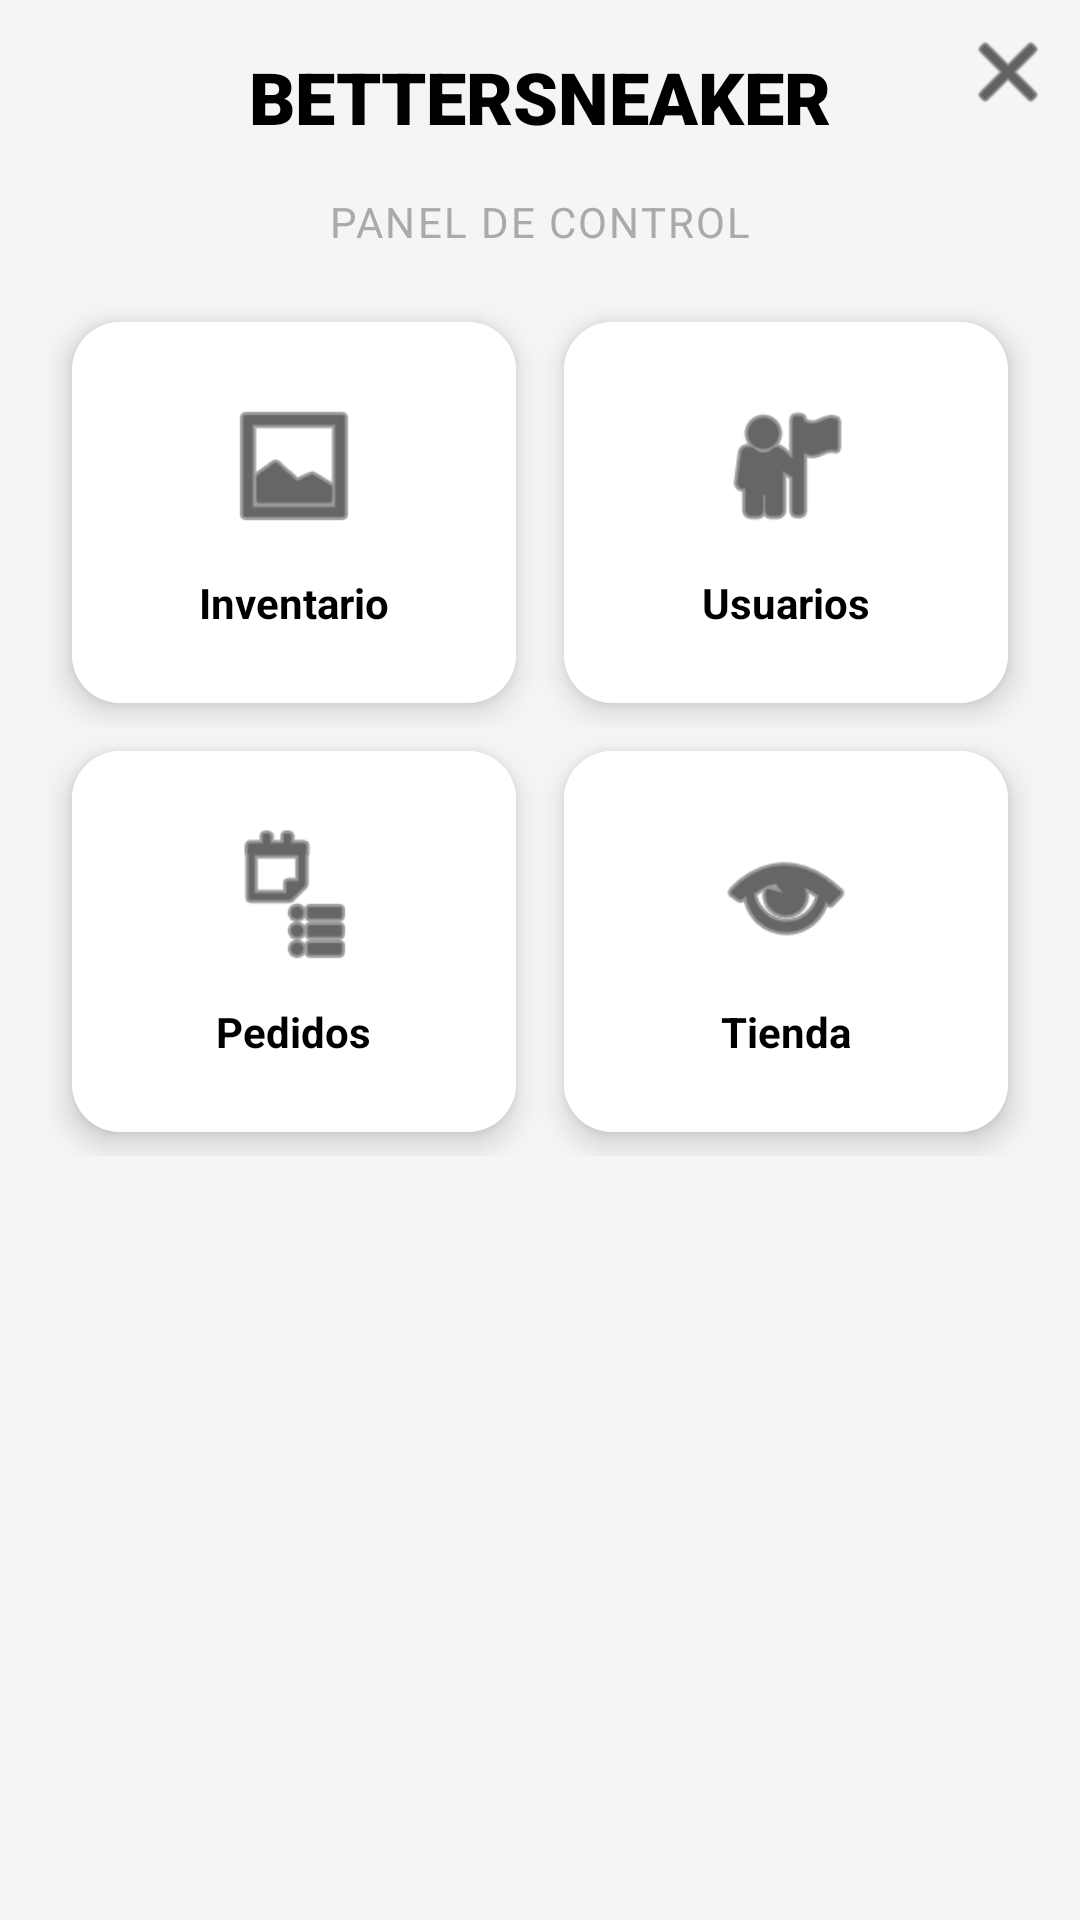

Icons on this 1080px x 1920px Android screen, each with the point to tap as point (x, y):
agenda: point (294, 894)
close clear cancel: point (1008, 72)
gallery: point (294, 466)
myplaces: point (787, 466)
view: point (786, 899)
